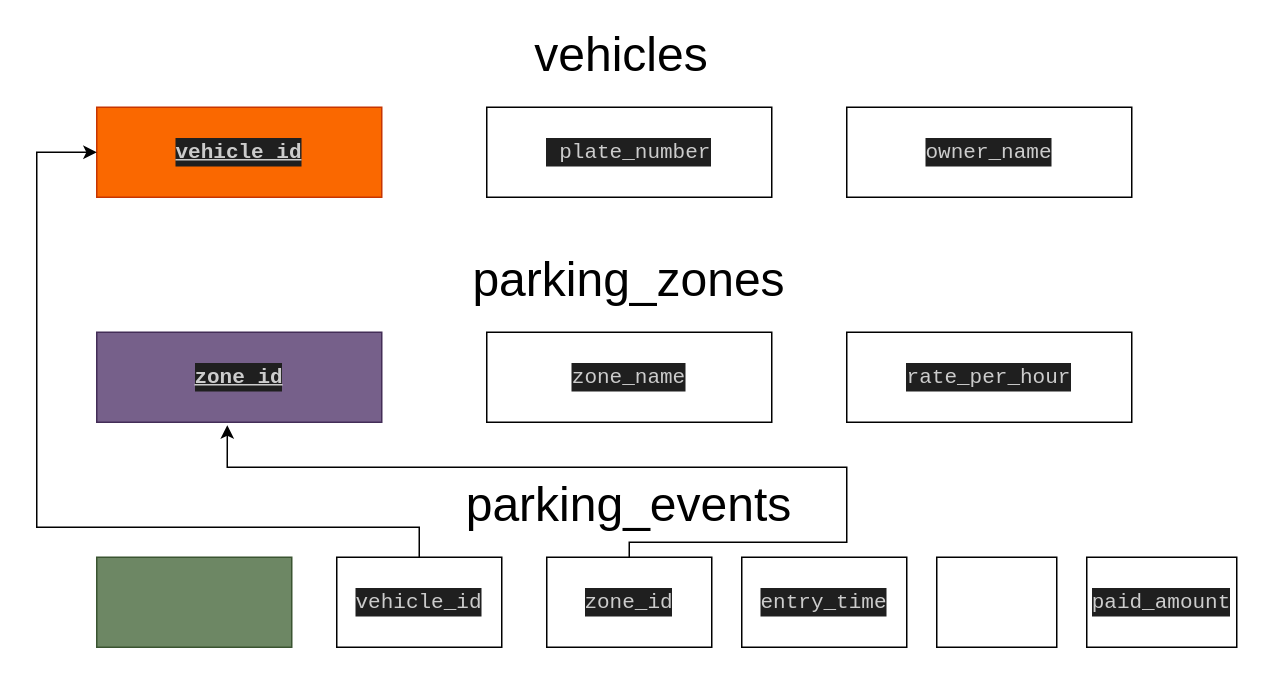
Image size: 1263x674. Some labels were removed from this diagram. The box of each missing label's shape, as (x1, y1, x2, y2) in pixels:
event_id: (95, 556, 292, 647)
exit_time: (935, 556, 1057, 647)
